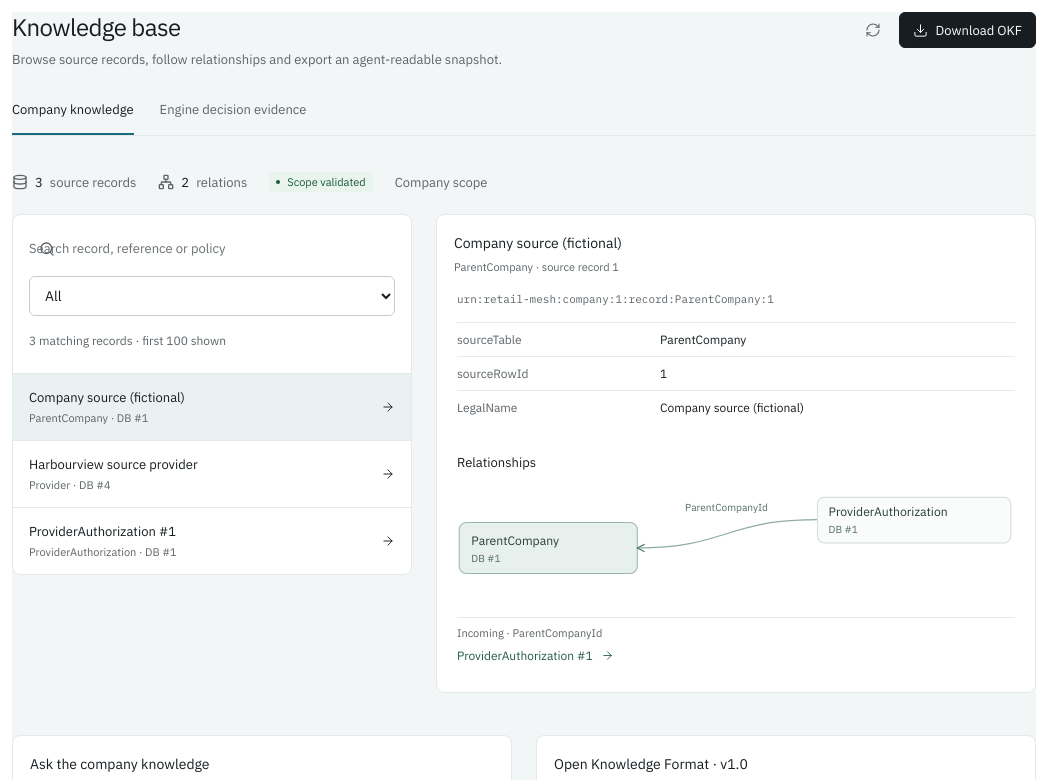
Test case: operational feature views › filters records and follows exact relationship targets
Expected: the text "3" is shown, left=35, top=174, right=43, bottom=191
In the field named "Search knowledge records": point(189, 249) left=29, top=231, right=349, bottom=266, type "Harbourview"
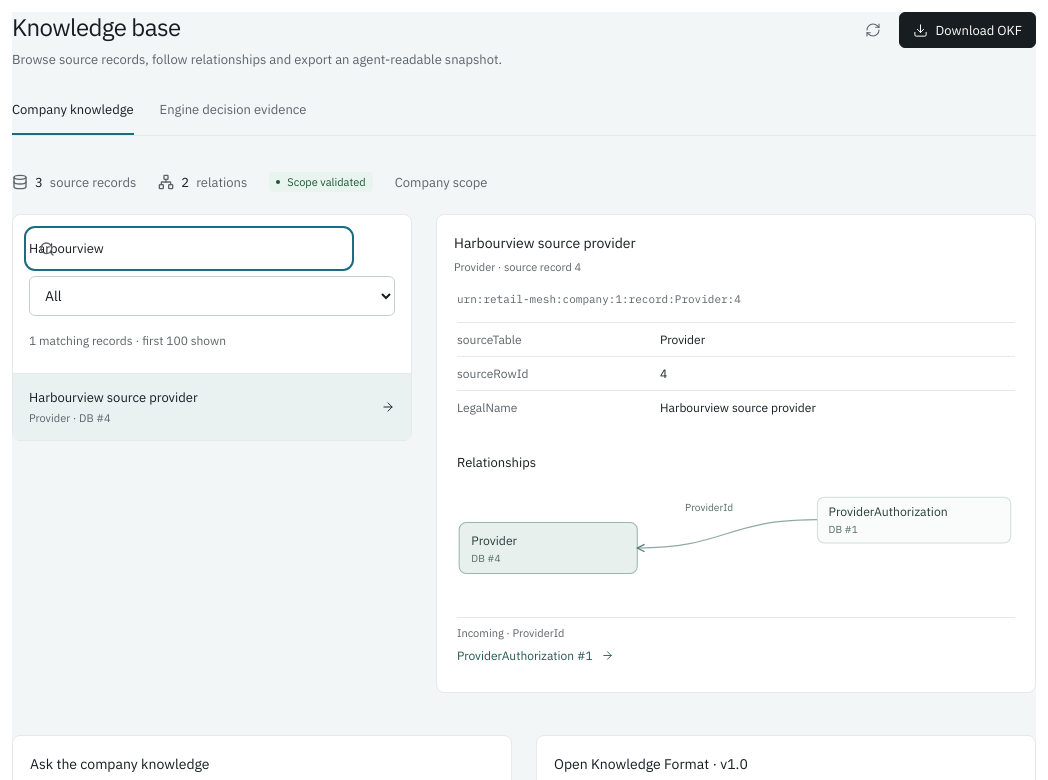
Expected: the picture named "Relationship graph" is shown, left=437, top=479, right=1035, bottom=617
Expected: the heading "Harbourview source provider" is shown, left=454, top=233, right=636, bottom=254
Expected: the text "Incoming · ProviderId" is shown, left=457, top=626, right=564, bottom=640
